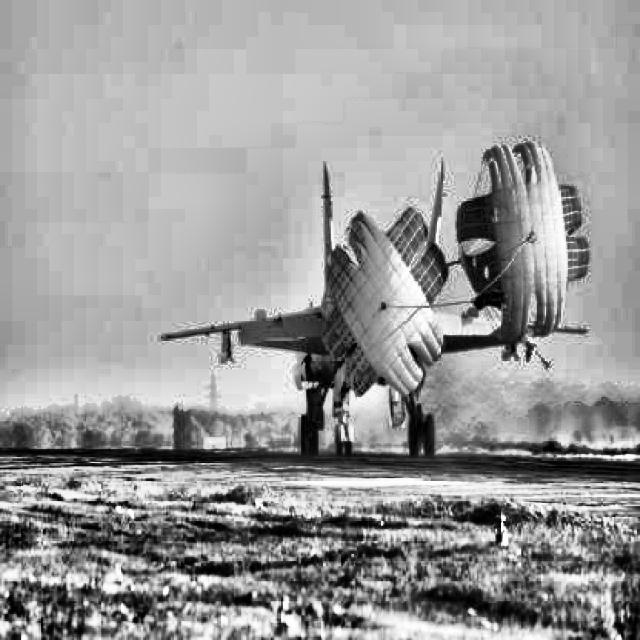Mig31: (160, 157, 588, 455)
